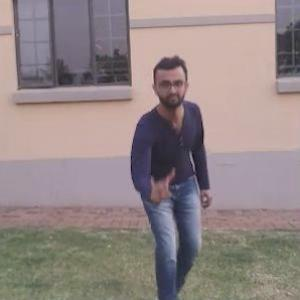takeoff-hand: (143, 158, 178, 204)
